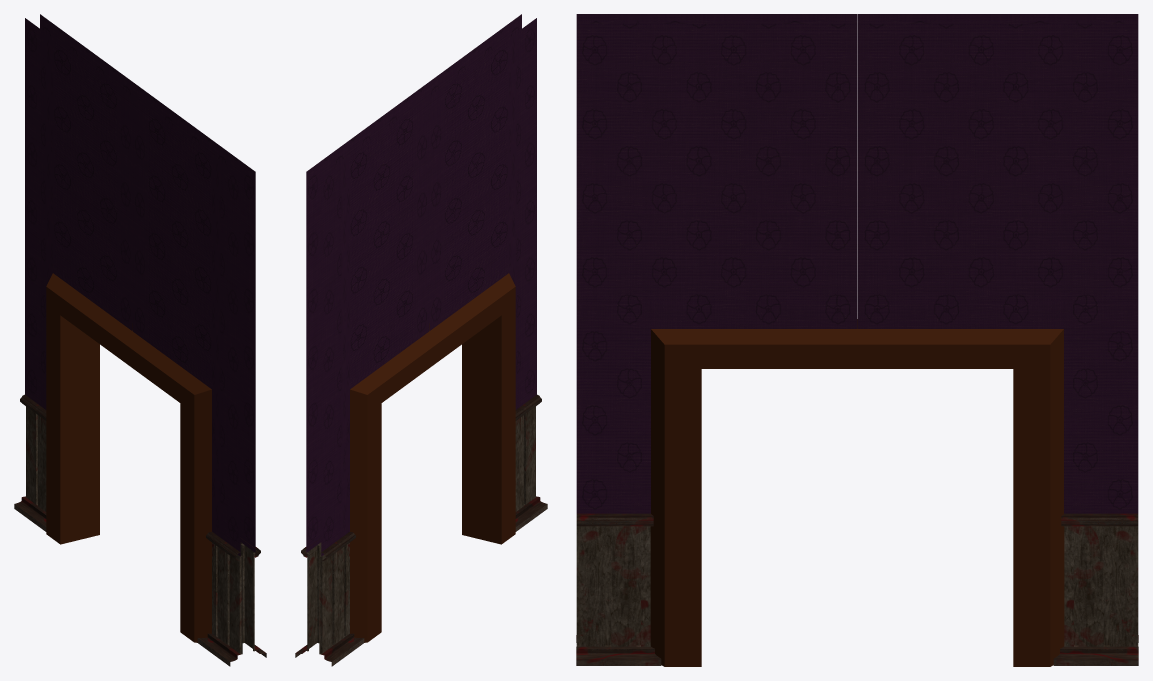
The model's file is Orphange_DoubleDoor.fbx.
3 renders of one model, left to right at view 1: azimuth 30°, elevation 25°; view 2: azimuth 150°, elevation 25°; view 3: azimuth 270°, elevation 25°, orthographic. The views are drawn at different scales.
Visible parts, largest first — view 1: Wall.003; view 2: Wall.003; view 3: Wall.003.
Boxes of the visible parts, <box> form: Wall.003: <box>14,14,266,666</box>; Wall.003: <box>295,14,547,666</box>; Wall.003: <box>576,14,1138,666</box>.
Size of the model in its own units: 4224 by 50010 by 40074.
